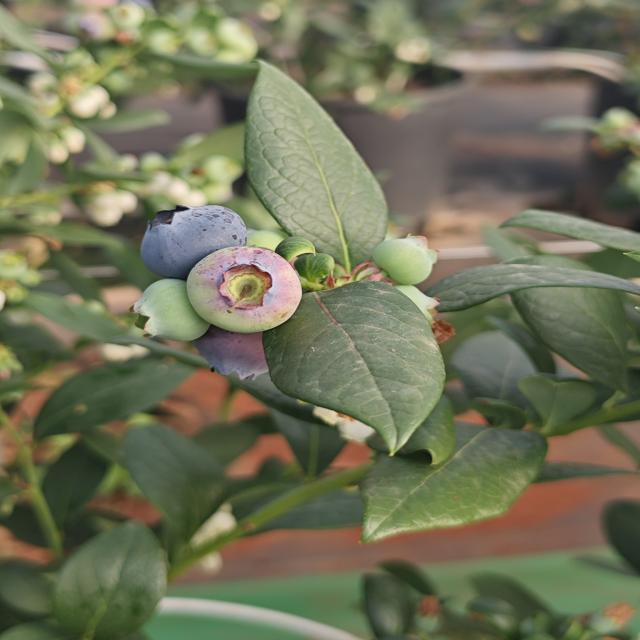ripe: (138, 203, 250, 280)
